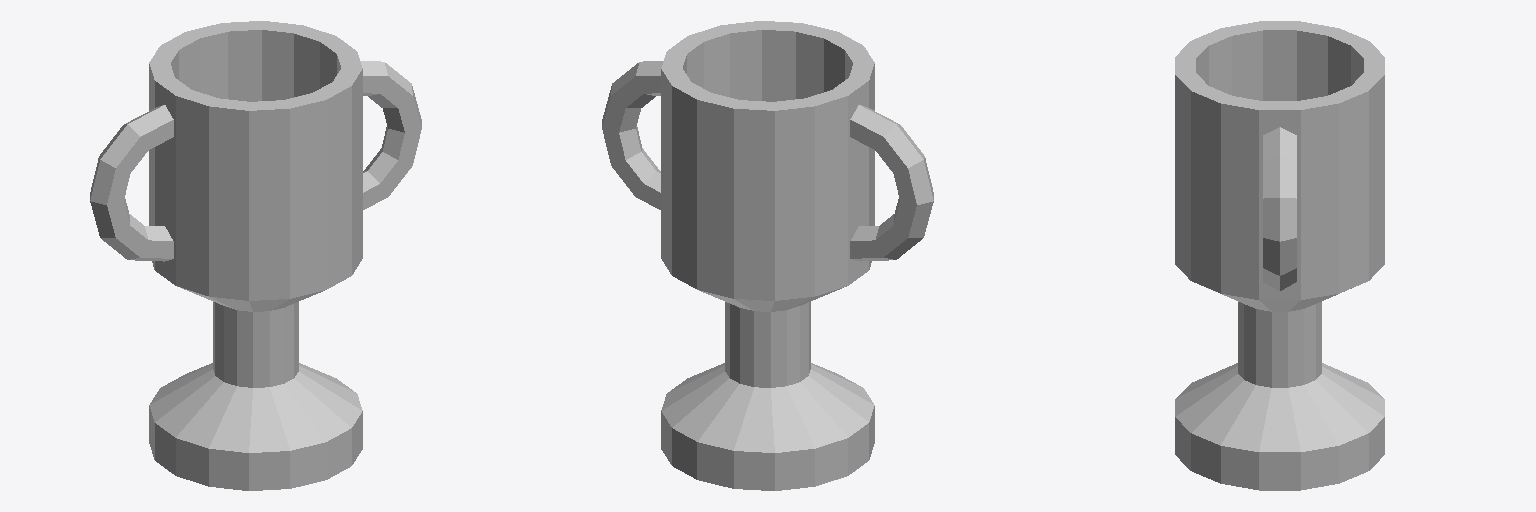
Rendered from homedecor_trophy.obj.
The picture shows the model from 3 angles: view 1: azimuth 30°, elevation 25°; view 2: azimuth 150°, elevation 25°; view 3: azimuth 270°, elevation 25°; orthographic projection.
Parts seen in each view (by area): view 1: Cylinder; view 2: Cylinder; view 3: Cylinder.
Part boxes in pixels (left/top/right/bottom): Cylinder: left=90, top=21, right=421, bottom=490; Cylinder: left=602, top=21, right=933, bottom=490; Cylinder: left=1175, top=21, right=1384, bottom=490.
Bounding box in the file's own units: 0.5705 × 0.625 × 0.3125.